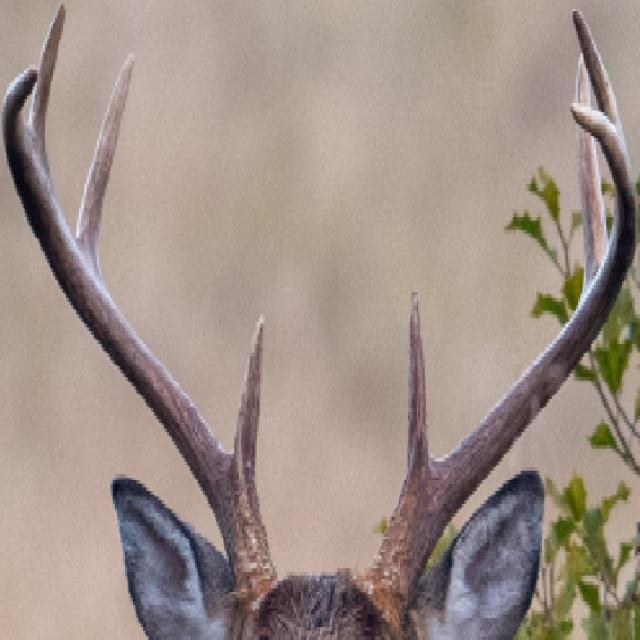L-F: (354, 101, 640, 632)
L-G1: (406, 288, 432, 478)
R-F: (0, 67, 275, 609)
R-G1: (233, 316, 265, 486)
R-G2: (75, 50, 137, 274)
R-G3: (29, 5, 67, 171)
